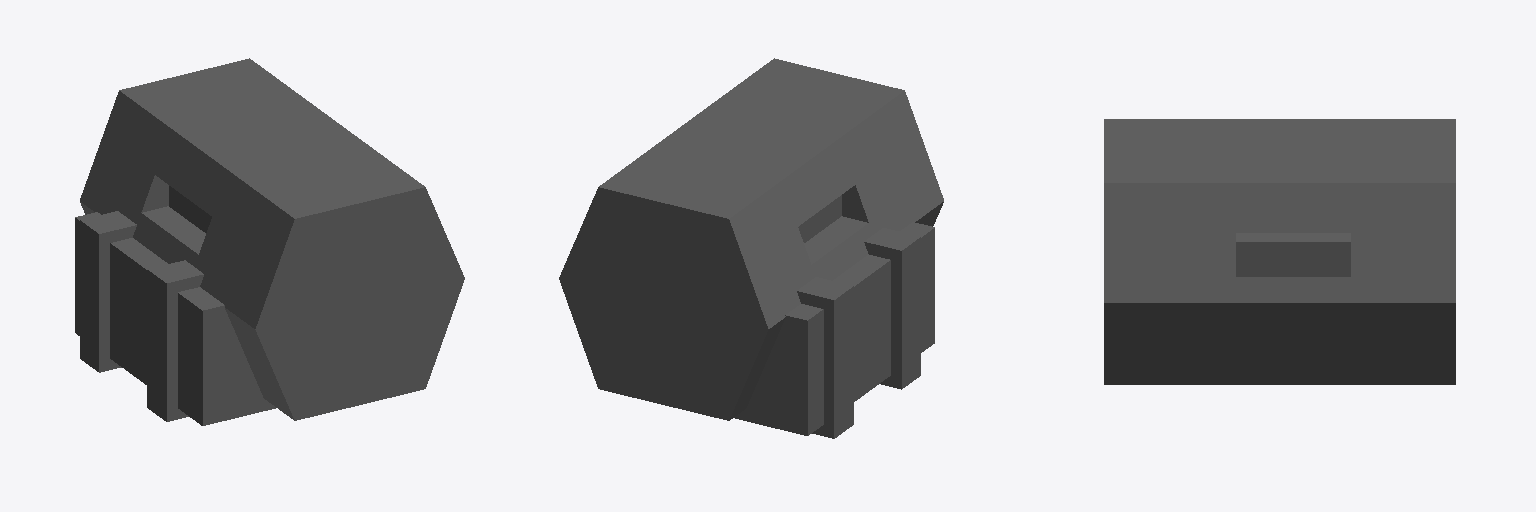
The picture shows the model from 3 angles: view 1: azimuth 30°, elevation 25°; view 2: azimuth 150°, elevation 25°; view 3: azimuth 270°, elevation 25°; orthographic projection.
Visible parts, largest first — view 1: Cube.010; view 2: Cube.010; view 3: Cube.010.
Boxes of the visible parts, <box> form: Cube.010: <box>75,58,464,425</box>; Cube.010: <box>559,58,943,438</box>; Cube.010: <box>1104,119,1455,384</box>.
Bounding box in the file's own units: 2.2 × 1.96 × 2.76.
Materials: 1 (1 with a texture image).